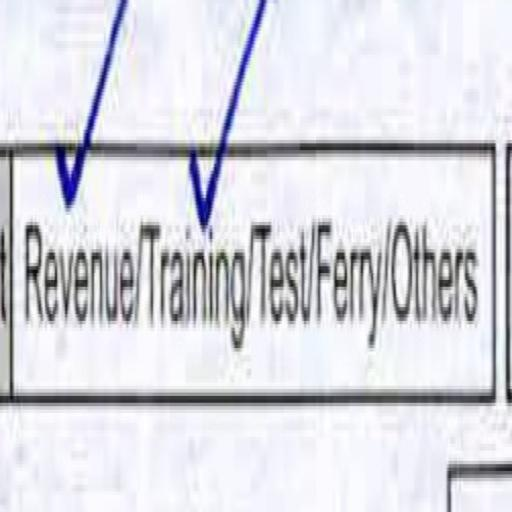check: (140, 20, 257, 405), (14, 72, 139, 406)
